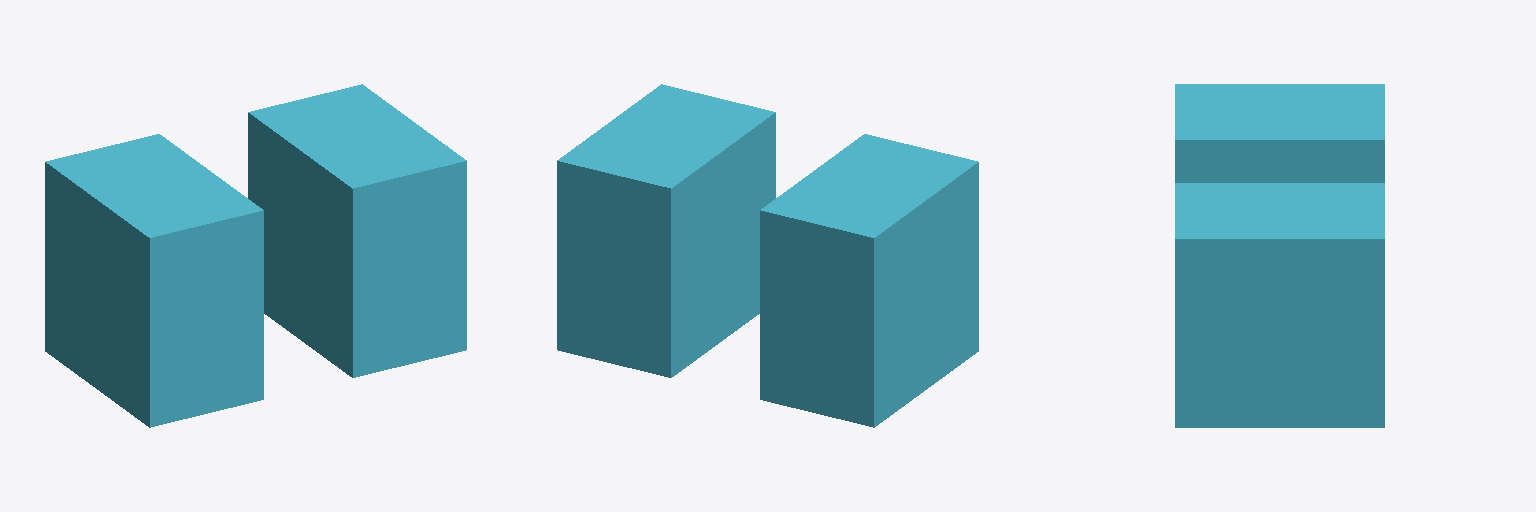
The picture shows the model from 3 angles: view 1: azimuth 30°, elevation 25°; view 2: azimuth 150°, elevation 25°; view 3: azimuth 270°, elevation 25°; orthographic projection.
Parts seen in each view (by area): view 1: 立方体; view 2: 立方体; view 3: 立方体.
Part boxes in pixels (left/top/right/bottom): 立方体: left=45, top=84, right=466, bottom=427; 立方体: left=557, top=84, right=978, bottom=427; 立方体: left=1175, top=84, right=1384, bottom=427.
Size of the model in its own units: 1.09 by 0.6189 by 0.6189.
1 materials, 1 textured.